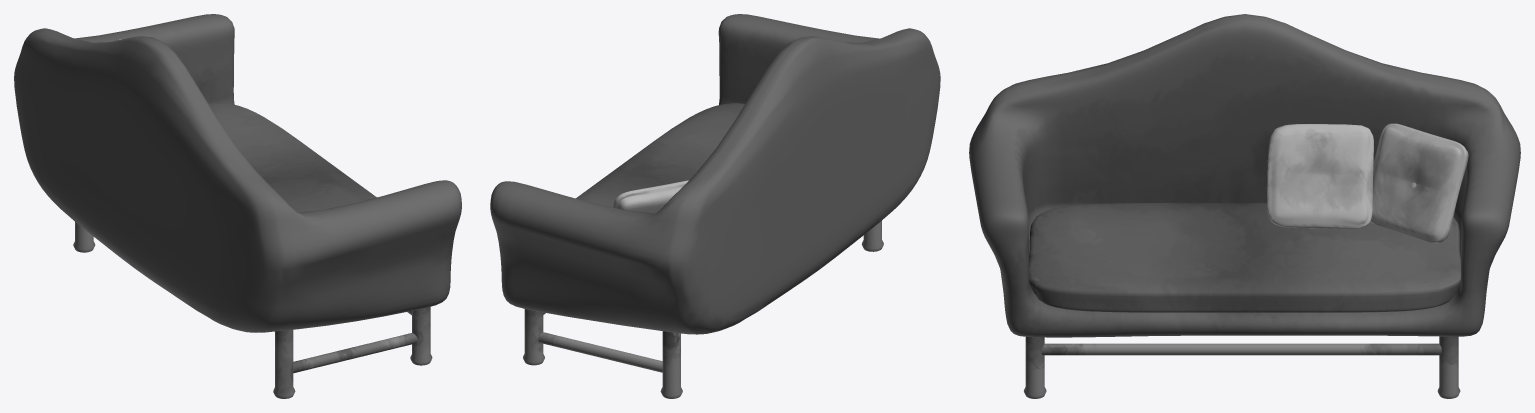
Rendered from couch.fbx.
3 views of the same model, side by side, from view 1: azimuth 30°, elevation 25°; view 2: azimuth 150°, elevation 25°; view 3: azimuth 270°, elevation 25° (orthographic). The views are drawn at different scales.
Parts seen in each view (by area): view 1: base, cushion, legs; view 2: base, cushion, legs, right_pillow; view 3: base, cushion, left_pillow, right_pillow, legs.
Boxes of the visible parts, x1,y1,x2,y2 form: base: [14, 14, 461, 332]; cushion: [208, 102, 376, 212]; legs: [73, 222, 432, 398]; base: [490, 14, 940, 334]; cushion: [576, 103, 744, 207]; legs: [523, 221, 883, 398]; right_pillow: [612, 180, 688, 213]; base: [969, 14, 1520, 337]; cushion: [1029, 203, 1460, 312]; left_pillow: [1267, 124, 1373, 228]; right_pillow: [1370, 123, 1468, 243]; legs: [1024, 336, 1460, 398].
Size of the model in its own units: 91.22 by 117 by 197.
Materials: 3 (3 with a texture image).
